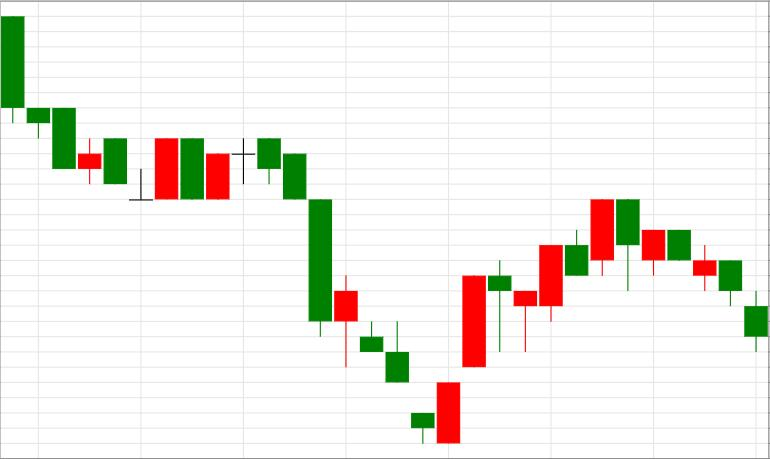bullish_engulfing_rise: (258, 138, 460, 443)
